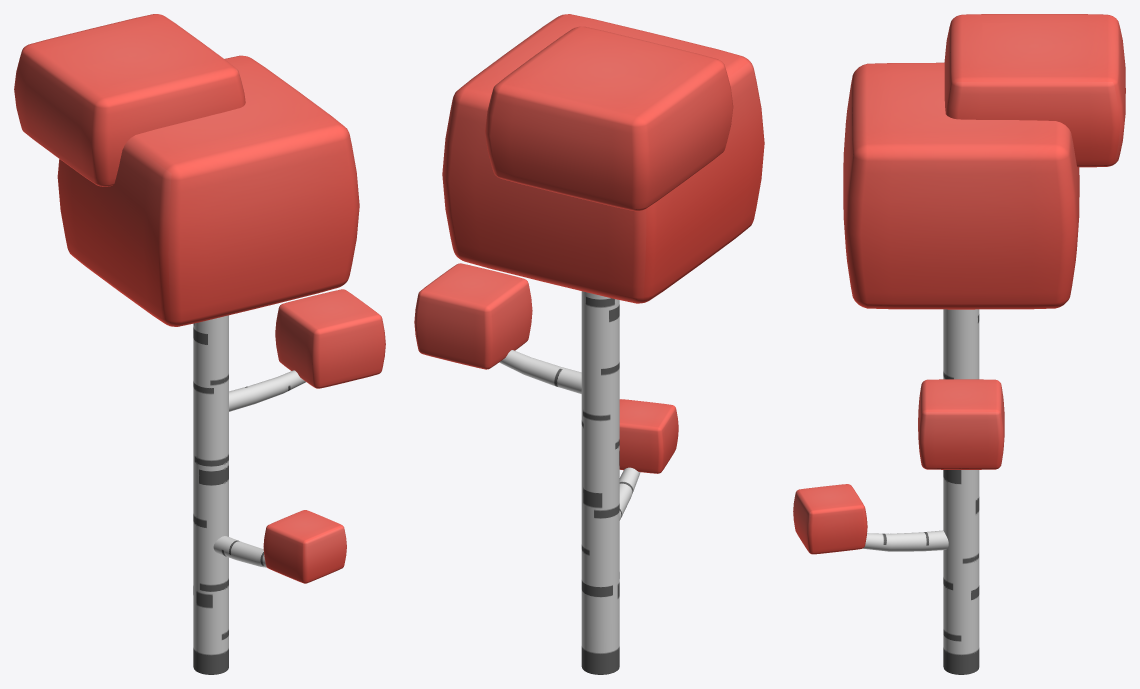
File: Tree1Export.fbx
3 renders of one model, left to right at view 1: azimuth 30°, elevation 25°; view 2: azimuth 150°, elevation 25°; view 3: azimuth 270°, elevation 25°, orthographic. The views are drawn at different scales.
Parts seen in each view (by area): view 1: Tree; view 2: Tree; view 3: Tree.
Part boxes in pixels (x1,y1,x2,y2): Tree: (14, 14, 385, 674); Tree: (414, 14, 764, 674); Tree: (793, 14, 1125, 674).
Bounding box in the file's own units: 45.84 × 93.57 × 46.98.
